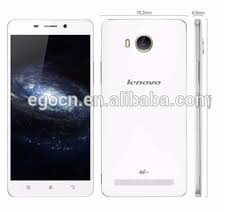lenovo: (5, 16, 96, 200), (97, 14, 188, 198)
